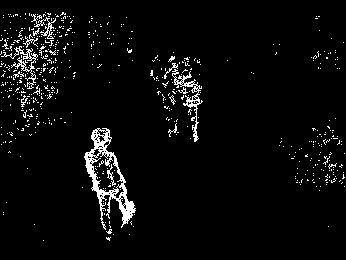person: (83, 126, 137, 240), (180, 68, 204, 144)
